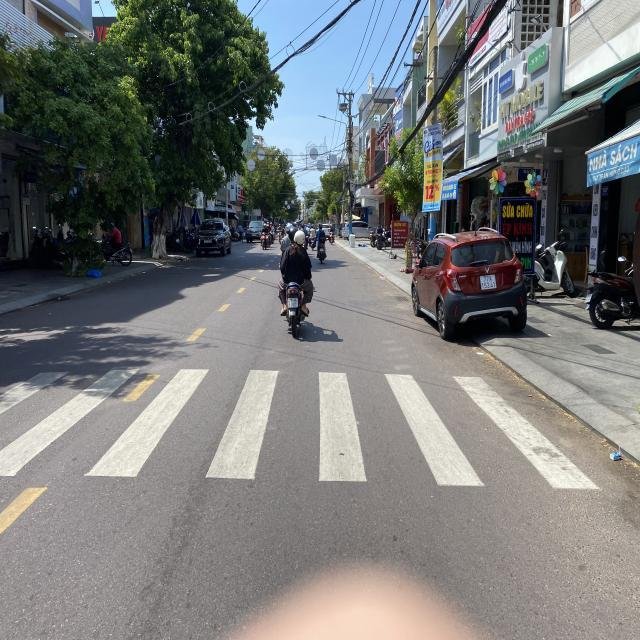walk-crossing: (0, 367, 627, 491)
